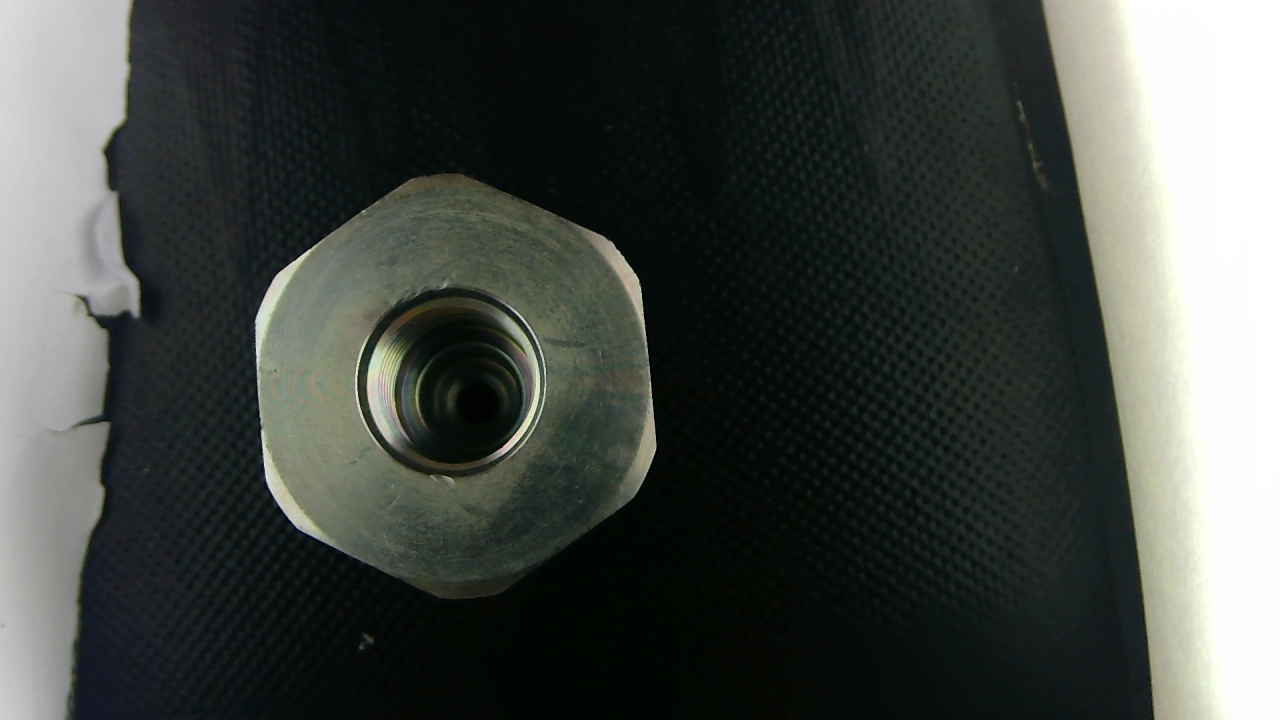Capnut_Surface_Dent: (386, 280, 452, 309)
